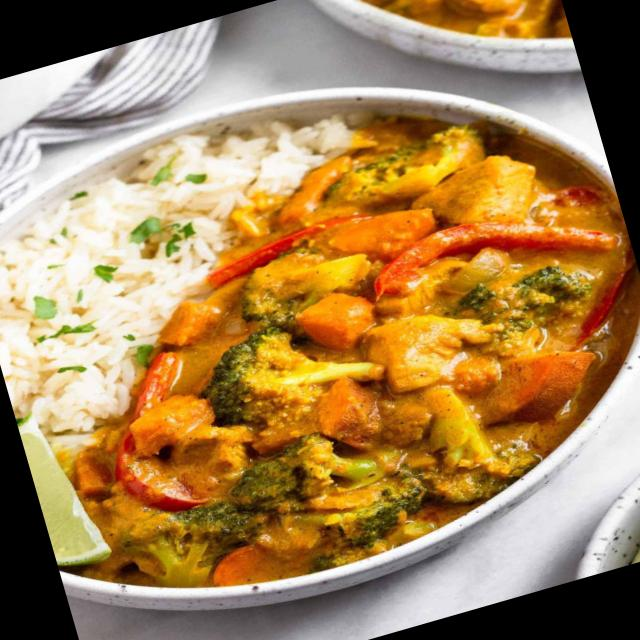chicken: (56, 102, 634, 596)
rice: (0, 138, 175, 431)
